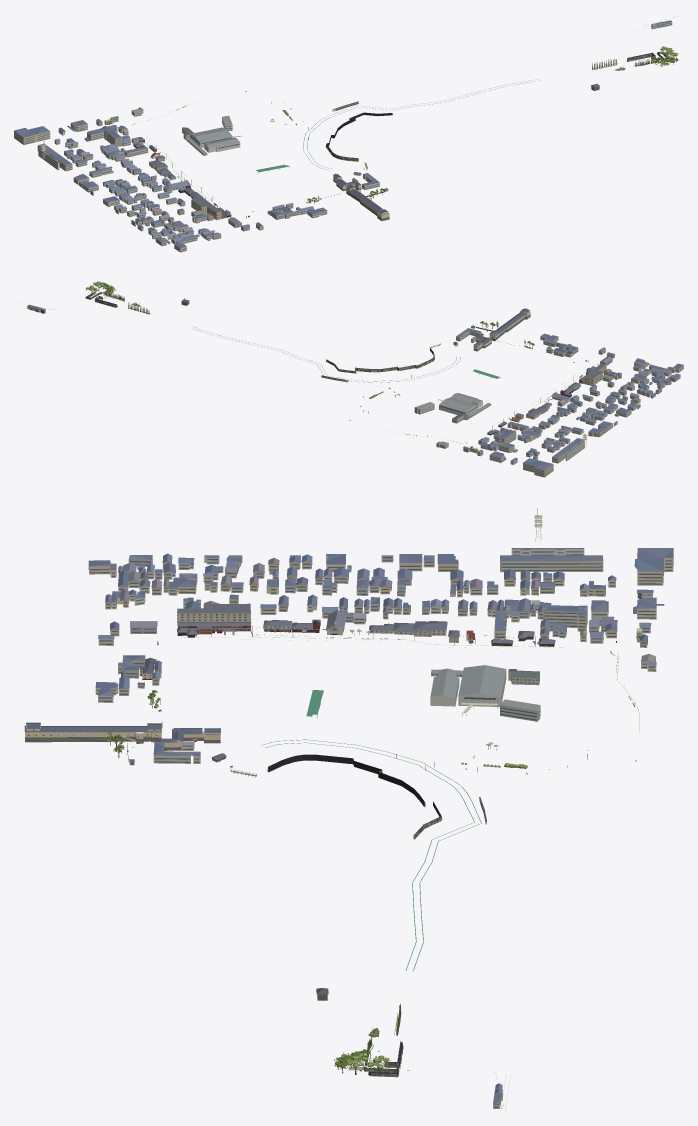
File: ART_EastHikoneBuildings.lod.glb
3 views of the same model, one above another, from view 1: azimuth 30°, elevation 25°; view 2: azimuth 150°, elevation 25°; view 3: azimuth 270°, elevation 25° (orthographic). The views are drawn at different scales.
Visible parts, largest first — view 1: ART_EastHikoneBuildings; view 2: ART_EastHikoneBuildings; view 3: ART_EastHikoneBuildings.
Part boxes in pixels (x1,y1,x2,y2): ART_EastHikoneBuildings: (14,17,678,252); ART_EastHikoneBuildings: (27,281,683,477); ART_EastHikoneBuildings: (24,508,673,1111).
Bounding box in the file's own units: 1128 × 47.05 × 545.
